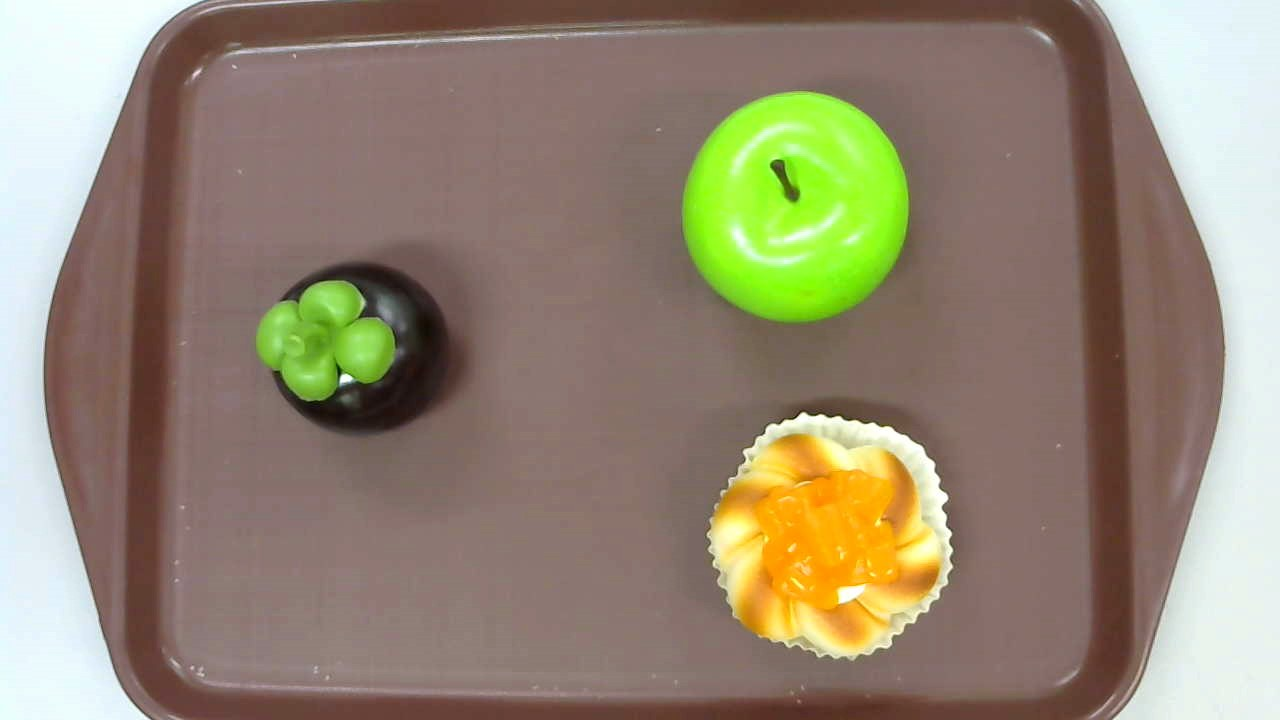green apple: (681, 91, 907, 326)
mango tart: (706, 409, 953, 660)
mangosteen: (256, 261, 450, 437)
